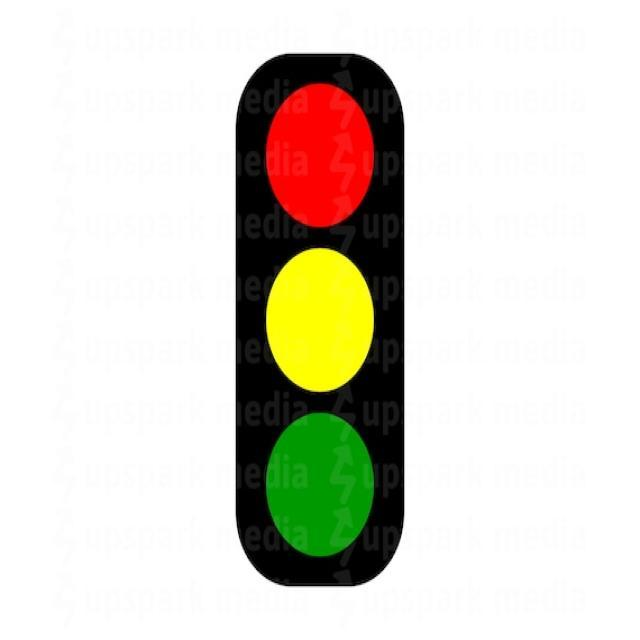suv: (234, 52, 406, 586)
